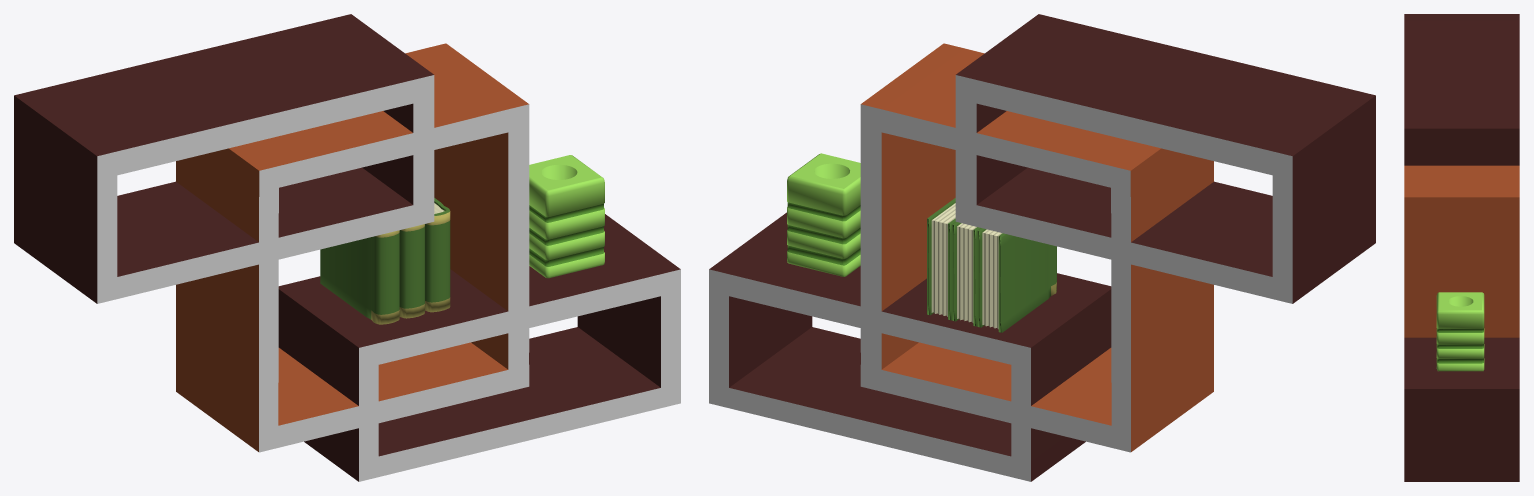
File: shelves_tier13.fbx
The picture shows the model from 3 angles, left to right: view 1: azimuth 30°, elevation 25°; view 2: azimuth 150°, elevation 25°; view 3: azimuth 270°, elevation 25°; orthographic projection. The views are drawn at different scales.
Visible parts, largest first — view 1: Cube.007, Cube, Cube.002, Cube.005, Cube.004; view 2: Cube.007, Cube, Cube.002, Cube.005, Cube.004; view 3: Cube.007, Cube.
Boxes of the visible parts, x1,y1,x2,y2 form: Cube.007: [14, 14, 680, 481]; Cube: [529, 155, 604, 278]; Cube.002: [320, 230, 399, 324]; Cube.005: [425, 198, 450, 312]; Cube.004: [399, 224, 424, 318]; Cube.007: [709, 14, 1375, 481]; Cube: [787, 153, 860, 276]; Cube.002: [977, 228, 1056, 332]; Cube.005: [927, 198, 955, 320]; Cube.004: [952, 222, 981, 326]; Cube.007: [1404, 14, 1519, 481]; Cube: [1436, 292, 1484, 371].
Bounding box in the file's own units: 210 × 134 × 51.89.
